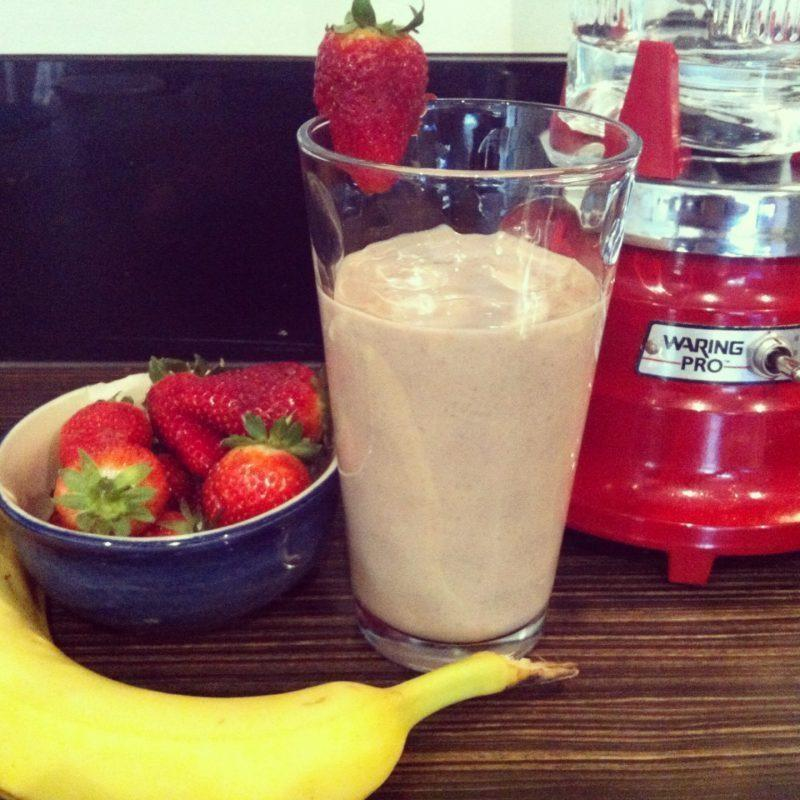glass-normal: (295, 96, 643, 674)
